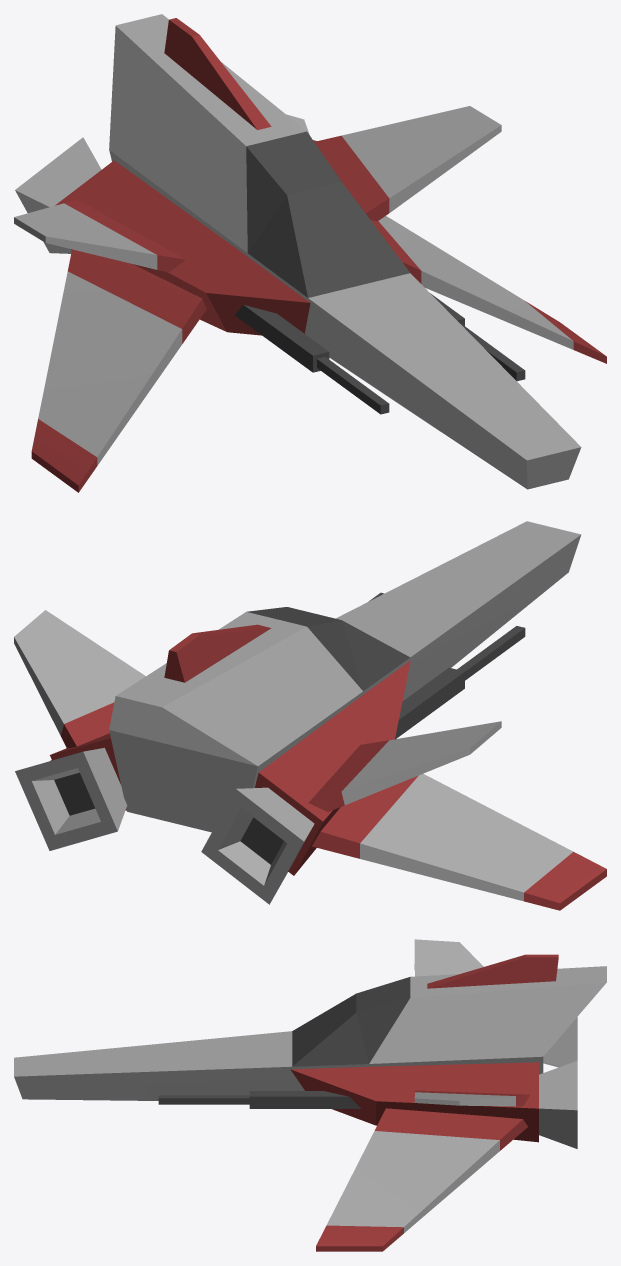
File: Spaceship.gltf
The picture shows the model from 3 angles, top to bottom: view 1: azimuth 30°, elevation 25°; view 2: azimuth 150°, elevation 25°; view 3: azimuth 270°, elevation 25°; orthographic projection. The views are drawn at different scales.
Visible parts, largest first — view 1: Lo_poly_Spaceship_05_by_Liz_Reddington; view 2: Lo_poly_Spaceship_05_by_Liz_Reddington; view 3: Lo_poly_Spaceship_05_by_Liz_Reddington.
Boxes of the visible parts, bbox=[...] form: Lo_poly_Spaceship_05_by_Liz_Reddington: bbox=[14, 14, 606, 492]; Lo_poly_Spaceship_05_by_Liz_Reddington: bbox=[14, 521, 606, 910]; Lo_poly_Spaceship_05_by_Liz_Reddington: bbox=[14, 939, 606, 1251].
Size of the model in its own units: 466 by 240 by 634.
